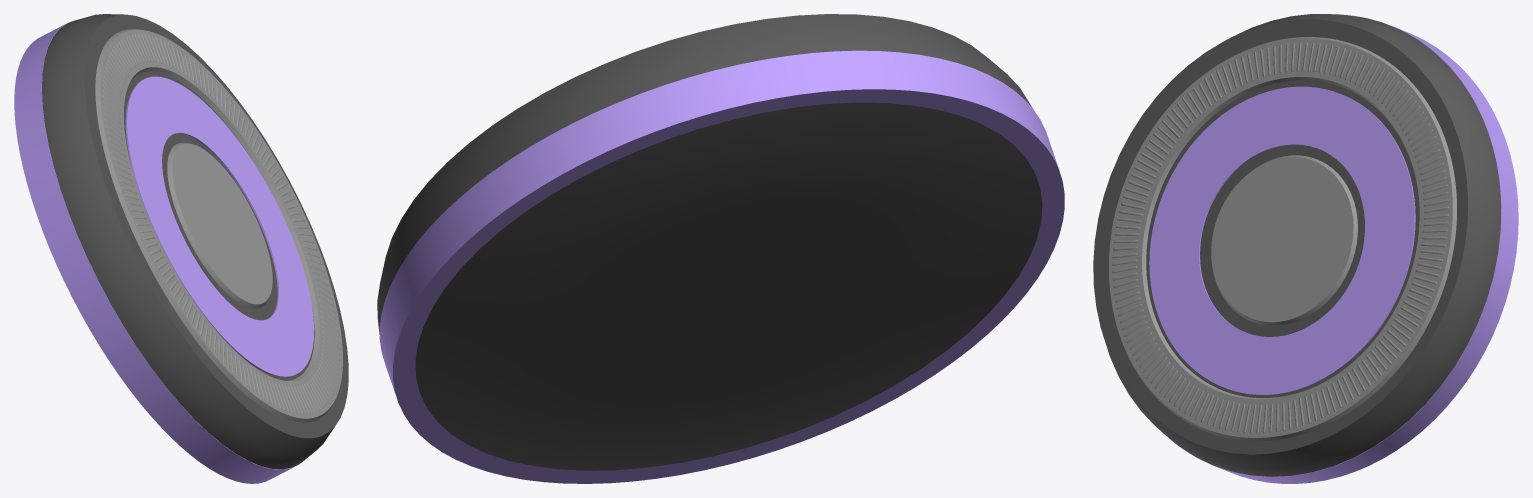
File: demonstration_noCorona6.glb
The picture shows the model from 3 angles, left to right: view 1: azimuth 30°, elevation 25°; view 2: azimuth 150°, elevation 25°; view 3: azimuth 270°, elevation 25°; orthographic projection. The views are drawn at different scales.
Visible parts, largest first — view 1: Tube (×2), Oil Tank, Rotate, Oil Tank.1; view 2: Oil Tank, Tube; view 3: Tube (×2), Oil Tank, Rotate, Oil Tank.1.
Boxes of the visible parts, x1=… form: Tube (×2): x1=14, y1=20, x2=313, y2=483; Oil Tank: x1=42, y1=14, x2=348, y2=469; Rotate: x1=95, y1=29, x2=342, y2=422; Oil Tank.1: x1=167, y1=142, x2=272, y2=308; Oil Tank: x1=377, y1=14, x2=1042, y2=470; Tube: x1=379, y1=50, x2=1064, y2=483; Tube (×2): x1=1149, y1=14, x2=1518, y2=483; Oil Tank: x1=1093, y1=14, x2=1501, y2=476; Rotate: x1=1109, y1=37, x2=1456, y2=441; Oil Tank.1: x1=1211, y1=155, x2=1357, y2=325.
Bounding box in the file's own units: 5.05 × 5.38 × 5.38.
